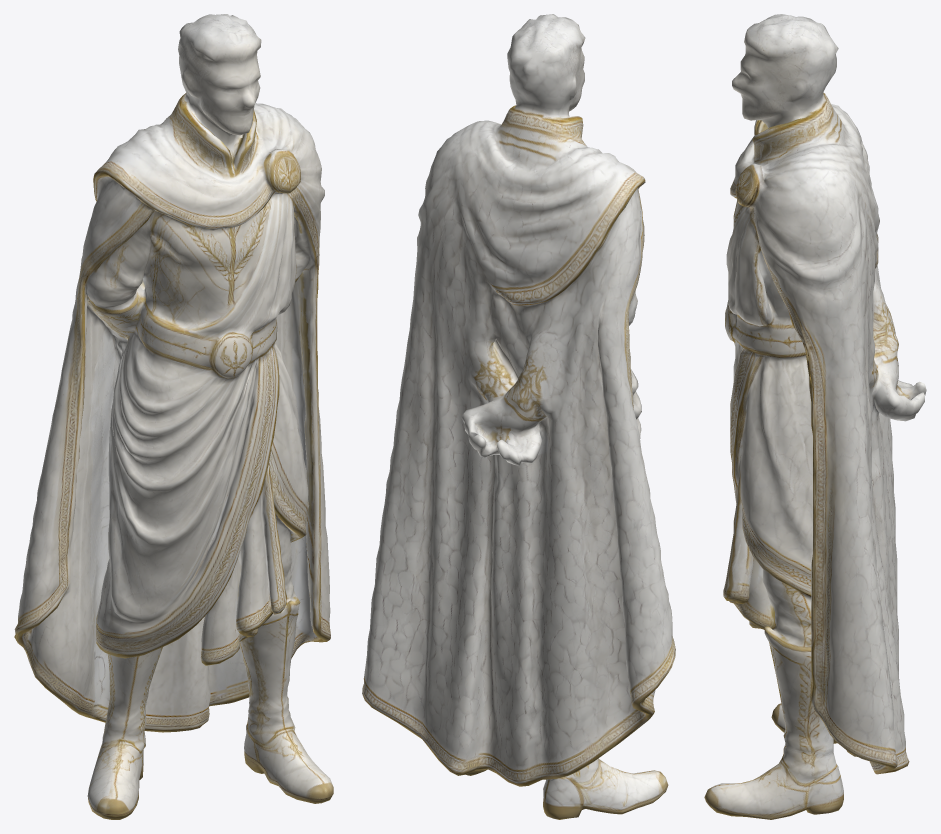
File: TotemCarlos.glb
3 renders of one model, left to right at view 1: azimuth 30°, elevation 25°; view 2: azimuth 150°, elevation 25°; view 3: azimuth 270°, elevation 25°, orthographic. The views are drawn at different scales.
Size of the model in its own units: 0.7985 by 1.91 by 0.5049.
Materials: 1 (1 with a texture image).
